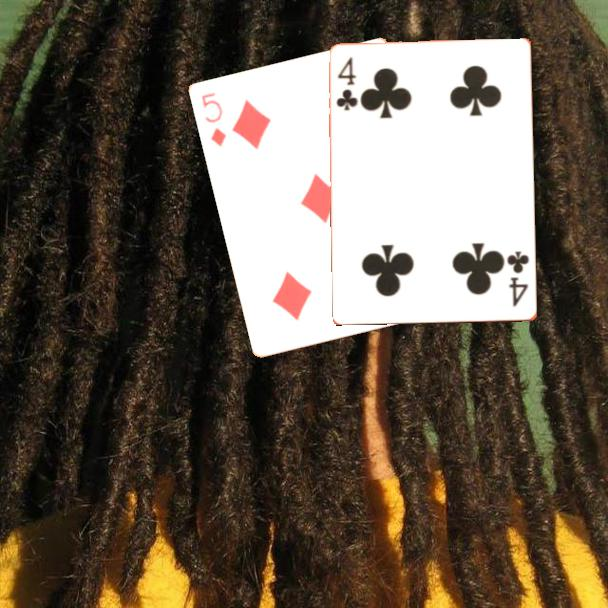c04: (504, 248, 532, 310), (333, 54, 359, 113)
d05: (198, 89, 230, 150)
